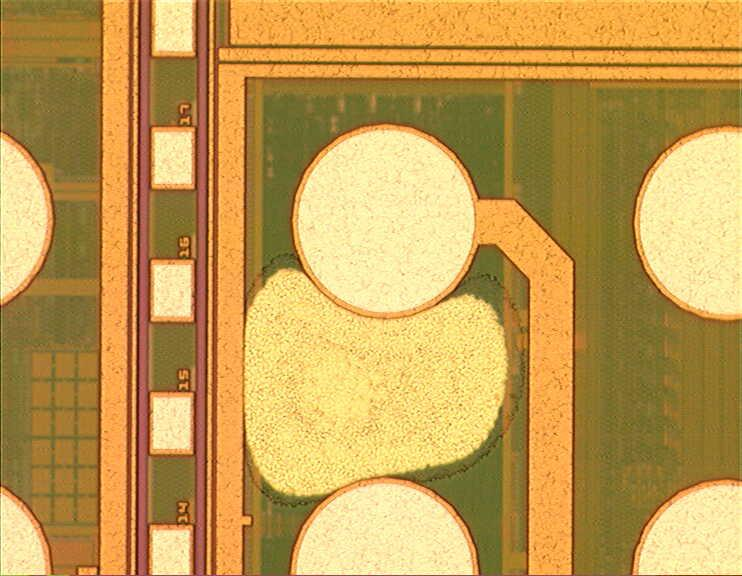BLOCK ETCH: (244, 254, 526, 508)
